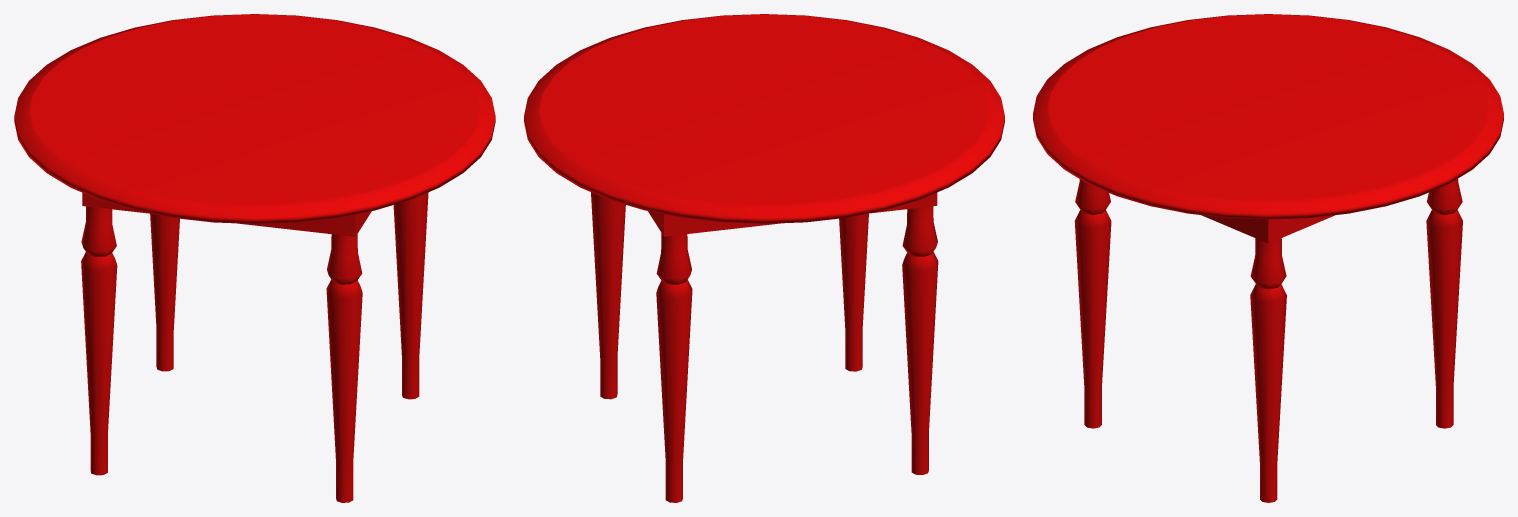
The model's file is Table_01_Lod0.fbx.
3 renders of one model, left to right at view 1: azimuth 30°, elevation 25°; view 2: azimuth 150°, elevation 25°; view 3: azimuth 270°, elevation 25°, orthographic. The views are drawn at different scales.
Visible parts, largest first — view 1: Table_01_Lod0; view 2: Table_01_Lod0; view 3: Table_01_Lod0.
Boxes of the visible parts, left/top/right/bottom form: Table_01_Lod0: left=14, top=14, right=495, bottom=502; Table_01_Lod0: left=524, top=14, right=1004, bottom=502; Table_01_Lod0: left=1033, top=14, right=1503, bottom=502.
Bounding box in the file's own units: 99.5 × 74.17 × 99.51.
